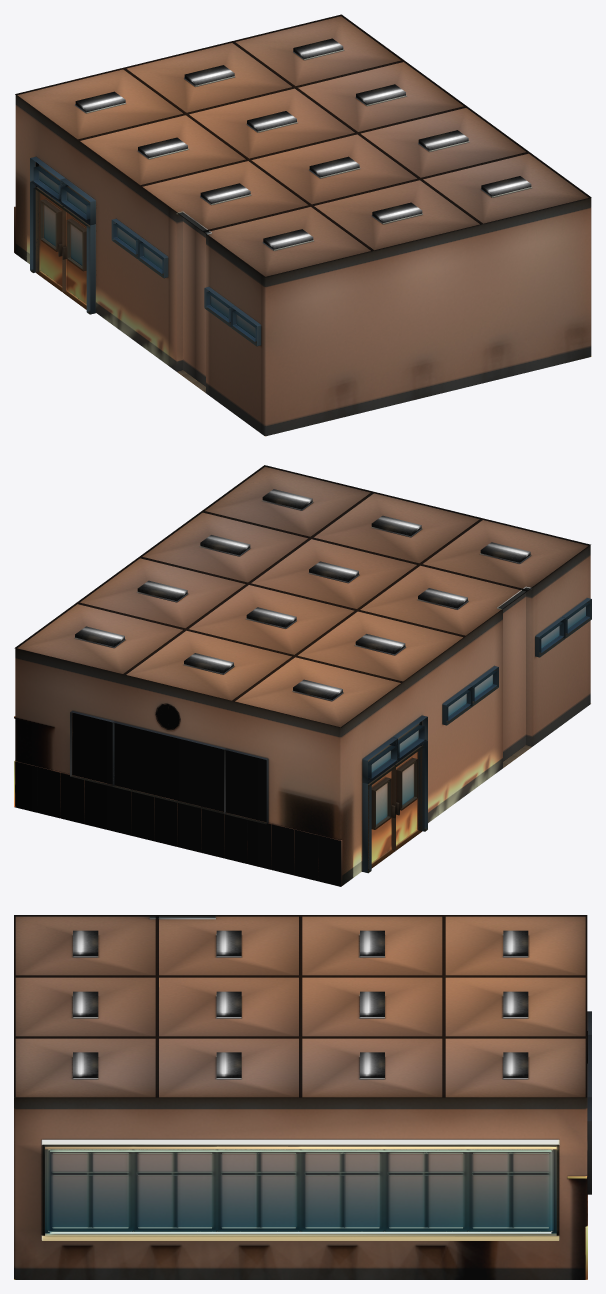
File: classroom_default.glb
The picture shows the model from 3 angles, top to bottom: view 1: azimuth 30°, elevation 25°; view 2: azimuth 150°, elevation 25°; view 3: azimuth 270°, elevation 25°; orthographic projection. The views are drawn at different scales.
Visible parts, largest first — view 1: Classroom; view 2: Classroom; view 3: Classroom, glass.
Boxes of the visible parts, x1,y1,x2,y2 form: Classroom: (14,14,591,436); Classroom: (14,465,591,886); Classroom: (14,915,591,1279); glass: (45,1149,556,1233).
Size of the model in its own units: 9.38 by 4.28 by 11.99.
Materials: 2 (1 with a texture image).
